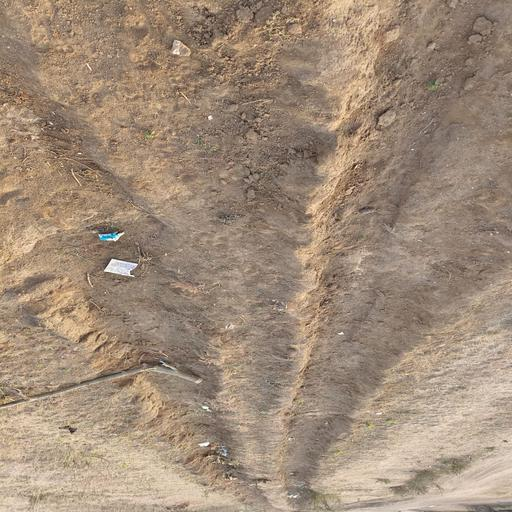vehicle_track: (282, 0, 512, 488), (0, 0, 214, 457)
